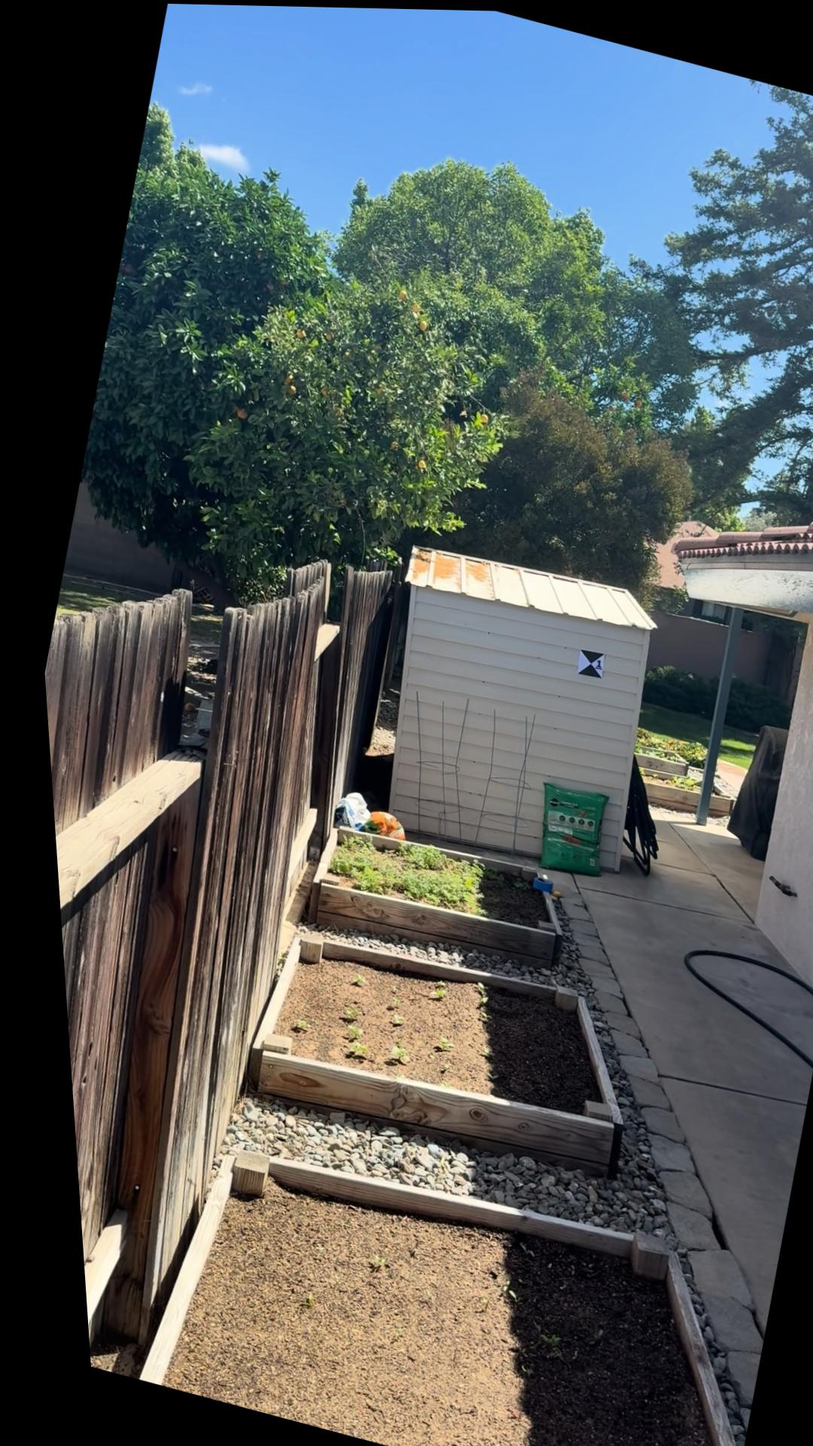target1: (572, 646, 610, 683)
